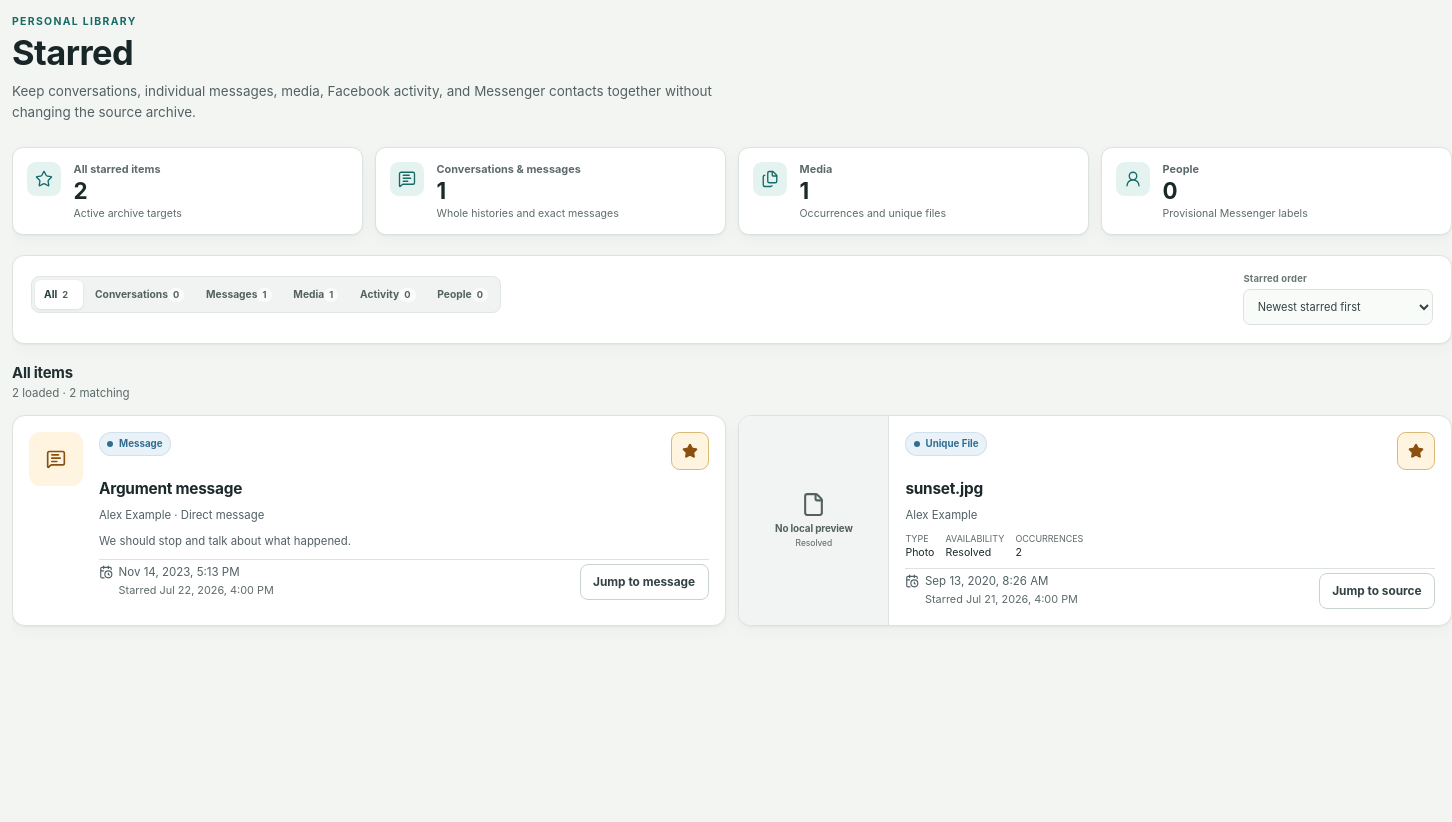
Test: StarredPage › renders heterogeneous cards, filters media, and preserves exact target semantics
Expected: the heading "Starred" is shown, x1=12 y1=32 x2=133 y2=73
Expected: the heading "Argument message" is shown, x1=99 y1=478 x2=242 y2=498
Click the button "Media1": [316, 294] box x1=284 y1=280 x2=348 y2=309
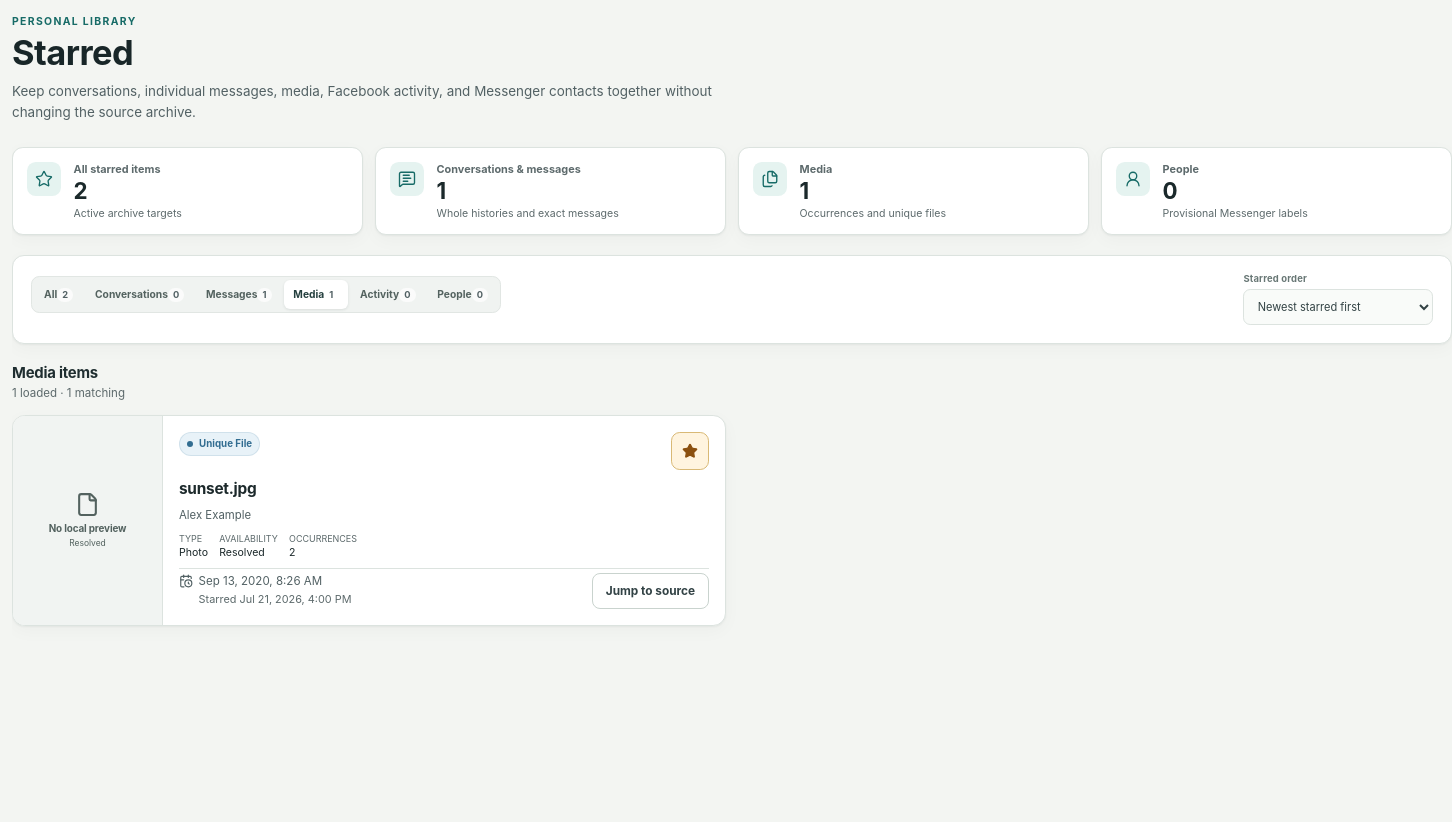
Result: the heading "Argument message" is gone
